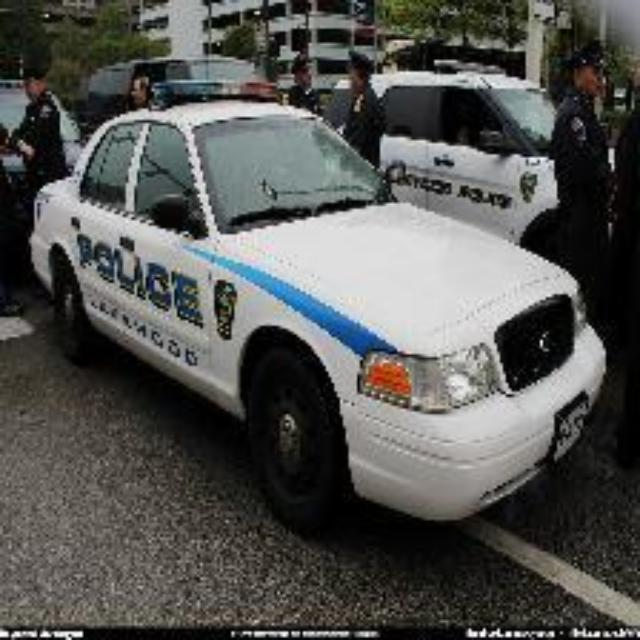emergency: (28, 92, 606, 526)
